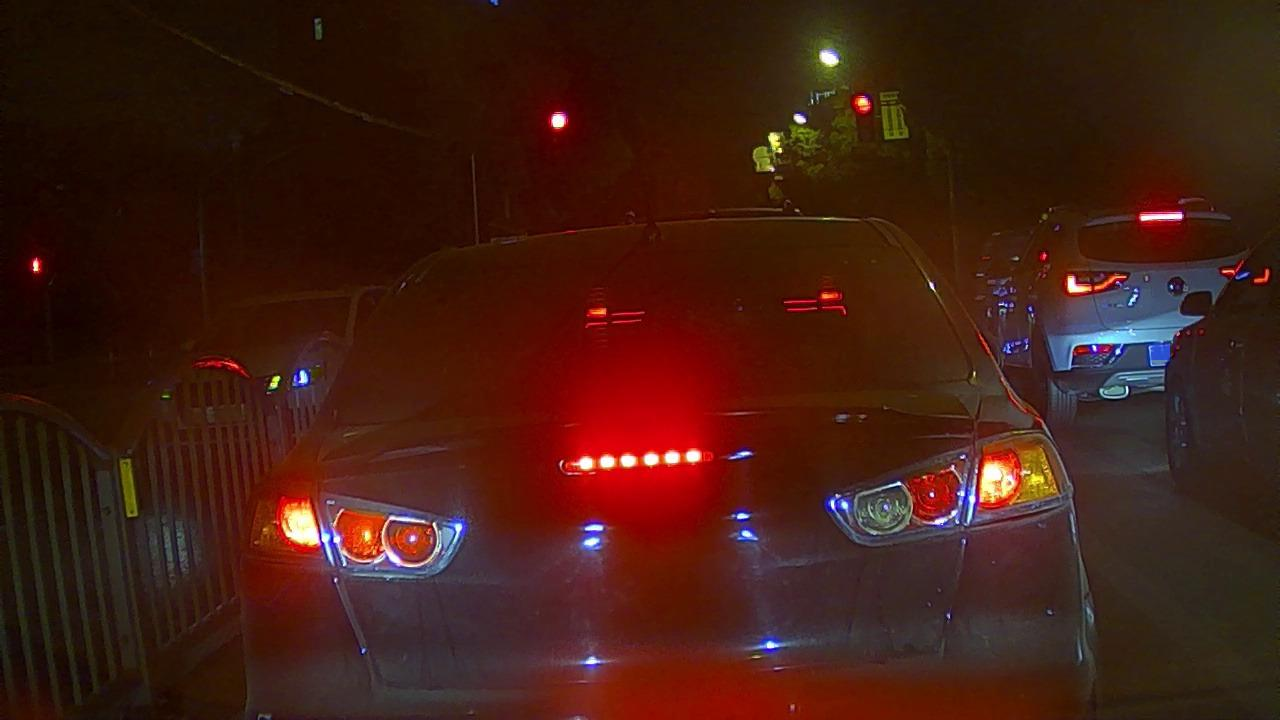traffic_light: (849, 84, 877, 119), (545, 106, 570, 140)
